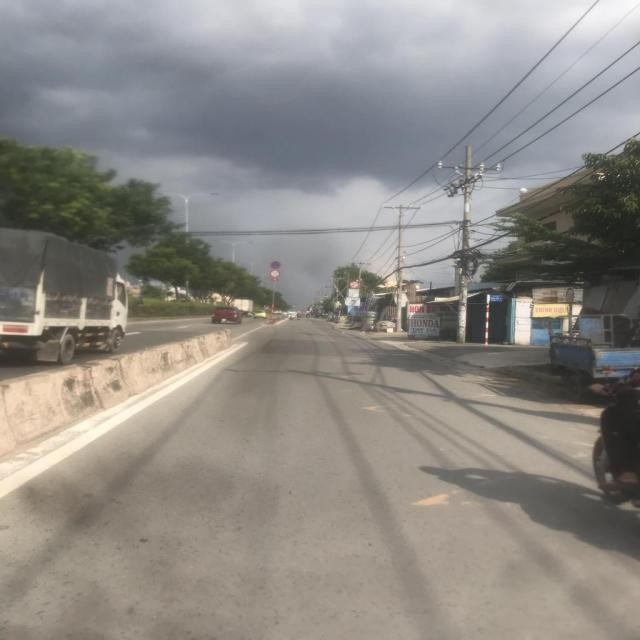107-cam-oto-khach-va-oto-tai: (348, 280, 359, 288)
